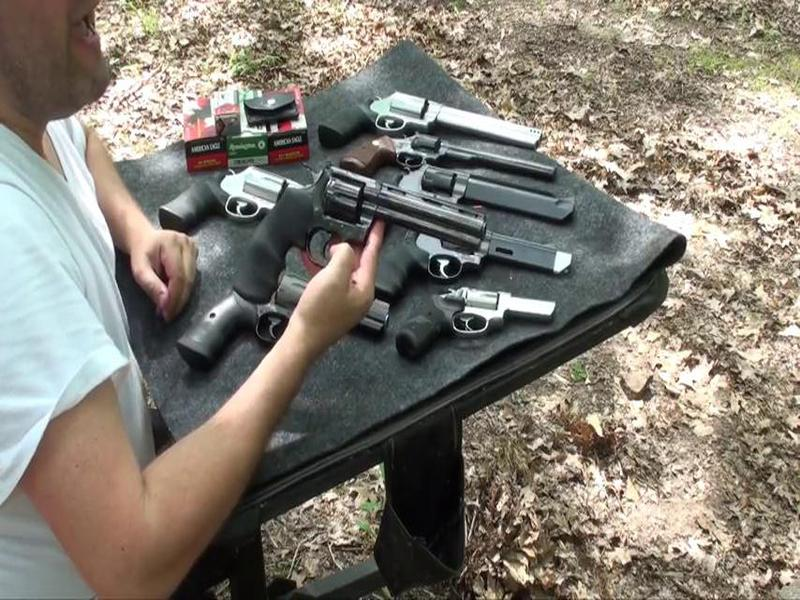Revolver: (247, 139, 485, 318)
